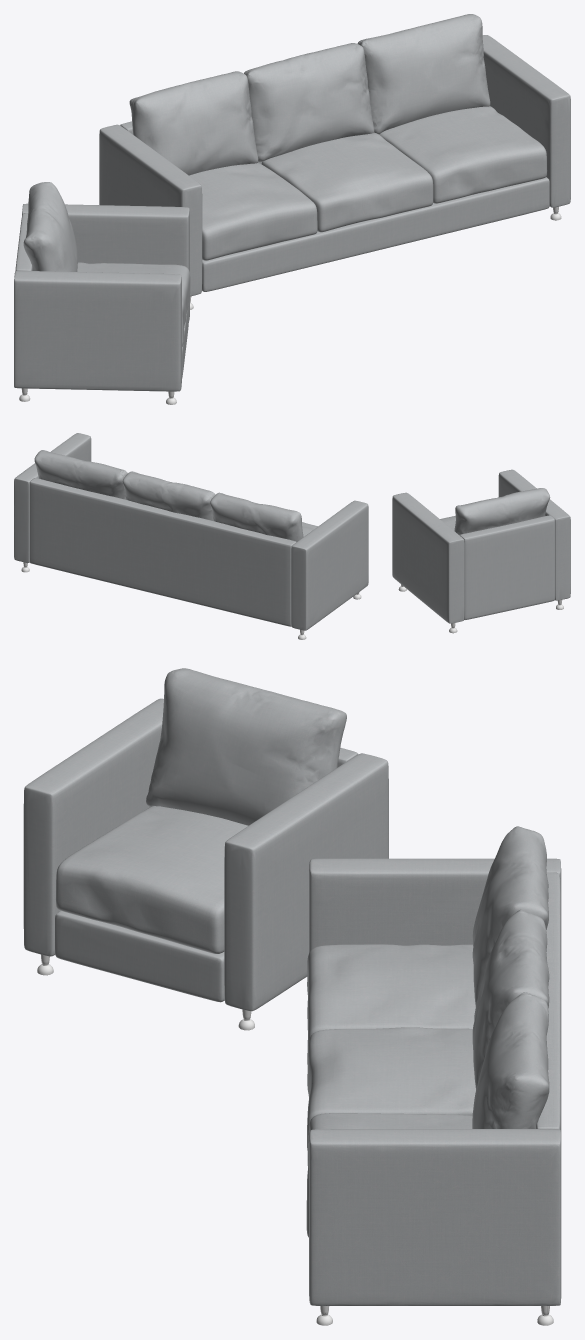
The model's file is test_opt_sofa.glb.
The picture shows the model from 3 angles, top to bottom: view 1: azimuth 30°, elevation 25°; view 2: azimuth 150°, elevation 25°; view 3: azimuth 270°, elevation 25°; orthographic projection. The views are drawn at different scales.
Bounding box in the file's own units: 3.15 × 0.7846 × 1.6.
2 materials, 1 textured.
